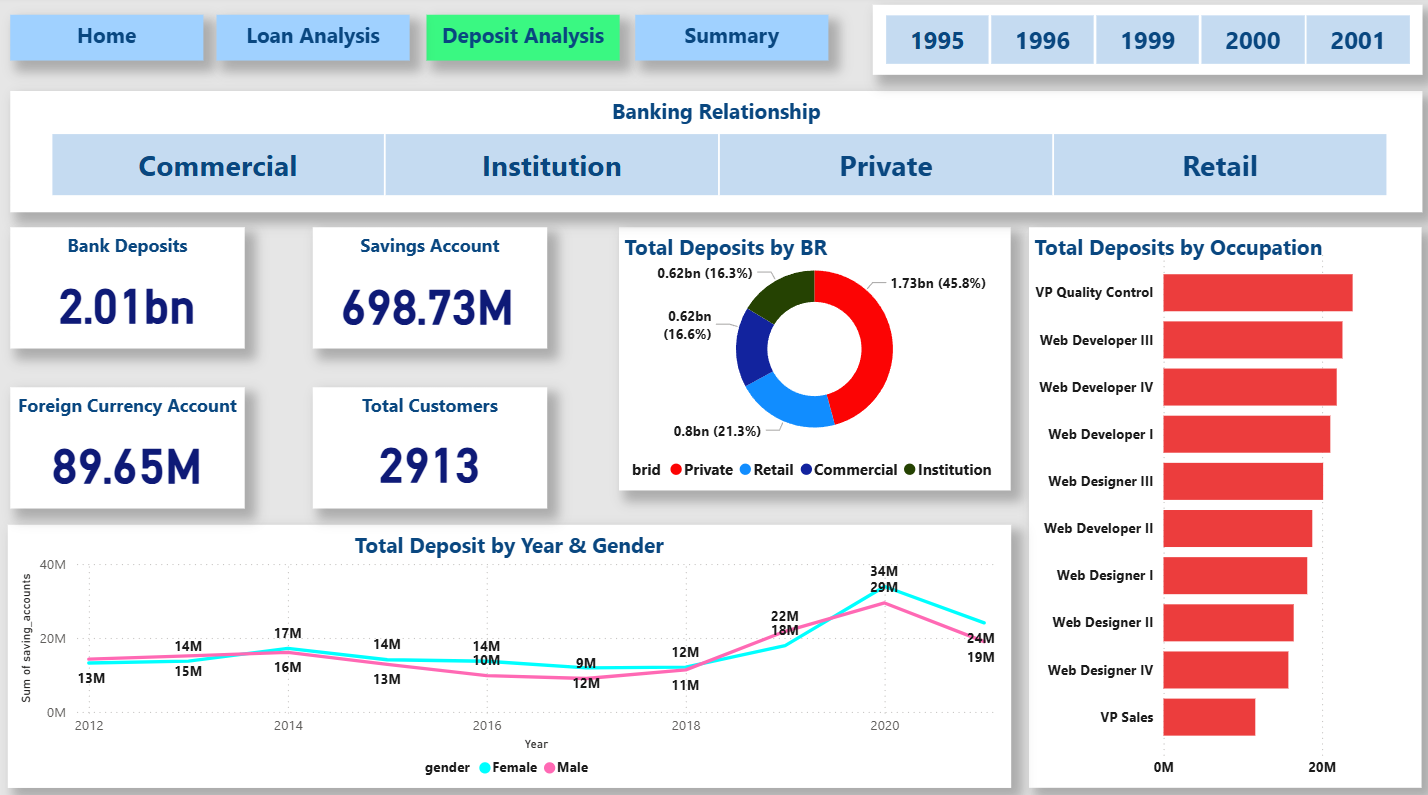

Layout of this report page (visuals, bound fields, positions):
{"tool":"powerbi","page":{"name":"Deposit Analysis","canvas":[1280,720],"ordinal":2},"visuals":[{"type":"textbox","box":[9.8,17.2,171.8,40.5],"z":0},{"type":"textbox","box":[552.2,206.1,348.5,234.4],"z":1000},{"type":"textbox","box":[9.8,84.7,1257.7,108],"z":2000},{"type":"textbox","box":[917.8,206.1,349.7,499.4],"z":3000},{"type":"textbox","box":[380.4,17.2,171.8,40.5],"z":4000},{"type":"textbox","box":[193.9,17.2,171.8,40.5],"z":5000},{"type":"textbox","box":[566.9,17.2,171.8,40.5],"z":6000},{"type":"textbox","box":[7.4,471.2,893.3,234.4],"z":8000},{"type":"textbox","box":[9.8,206.1,208.6,108],"z":9000},{"type":"textbox","box":[279.8,348.5,208.6,108],"z":10000},{"type":"textbox","box":[279.8,206.1,208.6,108],"z":11000},{"type":"textbox","box":[9.8,348.5,208.6,108],"z":12000},{"type":"textbox","box":[777.9,7.4,489.6,62.6],"z":13000},{"type":"slicer","fields":{"Values":["public customer.joined_bank.Variation.Date Hierarchy.Year"]},"box":[763.2,9.8,516.6,57.7],"z":14000},{"type":"card","fields":{"Values":["Sum(public customer.bank_deposits)"]},"box":[18.4,240.5,190.2,63.8],"z":15000},{"type":"card","fields":{"Values":["Sum(public customer.foreign_currency_account)"]},"box":[18.4,373,190.2,83.4],"z":16000},{"type":"card","fields":{"Values":["Count(public customer.name)"]},"box":[293.3,373,181.6,82.2],"z":17000},{"type":"card","fields":{"Values":["Sum(public customer.saving_accounts)"]},"box":[295.7,230.7,170.6,84.7],"z":18000},{"type":"lineChart","fields":{"Category":["public customer.joined_bank.Variation.Date Hierarchy.Year"],"Series":["public customer.gender"],"Y":["Sum(public customer.saving_accounts)"]},"box":[13.5,492,882.2,213.5],"z":19000},{"type":"donutChart","fields":{"Category":["public customer.brid"],"Y":["public customer.Total Deposits"]},"box":[552.2,218.4,348.5,222.1],"z":20000},{"type":"clusteredBarChart","fields":{"Category":["public customer.occupation"],"Y":["public customer.Total Deposits"]},"box":[917.8,218.4,349.7,487.1],"z":22000},{"type":"slicer","fields":{"Values":["public customer.brid"]},"box":[20.9,115.3,1238,68.7],"z":23000},{"type":"actionButton","box":[9.8,17.2,171.8,40.5],"z":24000},{"type":"actionButton","box":[566.9,17.2,171.8,40.5],"z":25000},{"type":"actionButton","box":[193.9,18.4,171.8,40.5],"z":26000}]}

Visuals, with their boxes in screenshot pixels (x1, y1, x2, y2), scaled from the page's 1280x720 canvas onto the 1428x795 screenshot:
textbox: box(11, 19, 203, 64)
textbox: box(616, 228, 1005, 486)
textbox: box(11, 94, 1414, 213)
textbox: box(1024, 228, 1414, 779)
textbox: box(424, 19, 616, 64)
textbox: box(216, 19, 408, 64)
textbox: box(632, 19, 824, 64)
textbox: box(8, 520, 1005, 779)
textbox: box(11, 228, 244, 347)
textbox: box(312, 385, 545, 504)
textbox: box(312, 228, 545, 347)
textbox: box(11, 385, 244, 504)
textbox: box(868, 8, 1414, 77)
slicer - public customer.joined_bank.Variation.Date Hierarchy.Year: box(851, 11, 1427, 75)
card - Sum(public customer.bank_deposits): box(21, 266, 233, 336)
card - Sum(public customer.foreign_currency_account): box(21, 412, 233, 504)
card - Count(public customer.name): box(327, 412, 530, 503)
card - Sum(public customer.saving_accounts): box(330, 255, 520, 348)
lineChart - public customer.joined_bank.Variation.Date Hierarchy.Year x public customer.gender: box(15, 543, 999, 779)
donutChart - public customer.brid x public customer.Total Deposits: box(616, 241, 1005, 486)
clusteredBarChart - public customer.occupation x public customer.Total Deposits: box(1024, 241, 1414, 779)
slicer - public customer.brid: box(23, 127, 1404, 203)
actionButton: box(11, 19, 203, 64)
actionButton: box(632, 19, 824, 64)
actionButton: box(216, 20, 408, 65)
